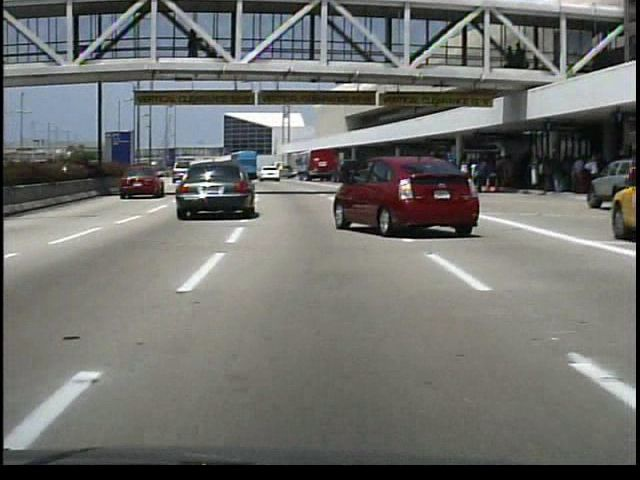person: (189, 30, 205, 60)
